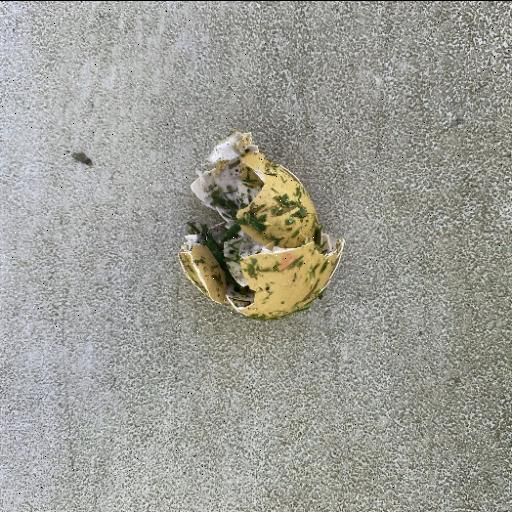Waste: (176, 130, 347, 322)
